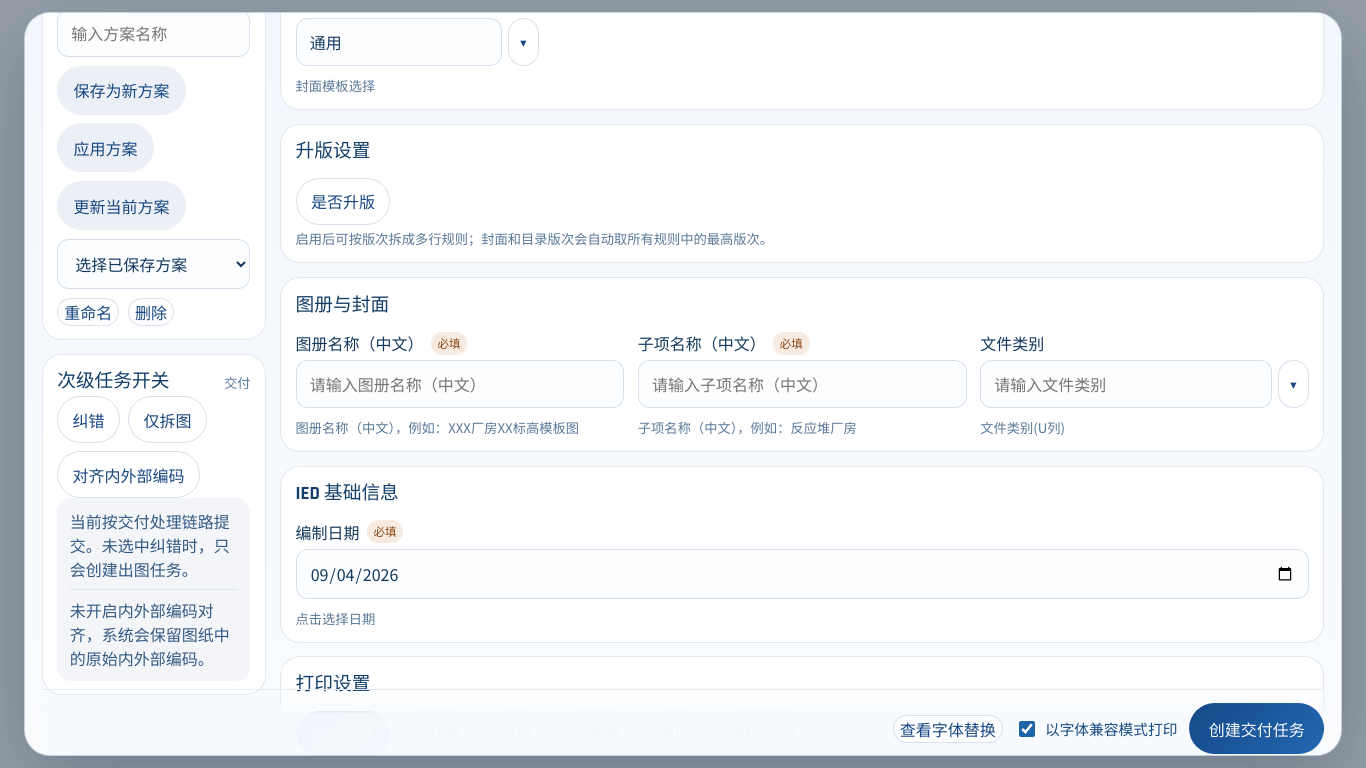
Test: DeliverableWorkspace › shows all file category candidates inside a scrollable dropdown menu
This screenshot has width=1366, height=768.
(page scrolled)
Click the dropdown labelled "文件类别": (1126, 384) [980, 360, 1272, 408]
(page scrolled)
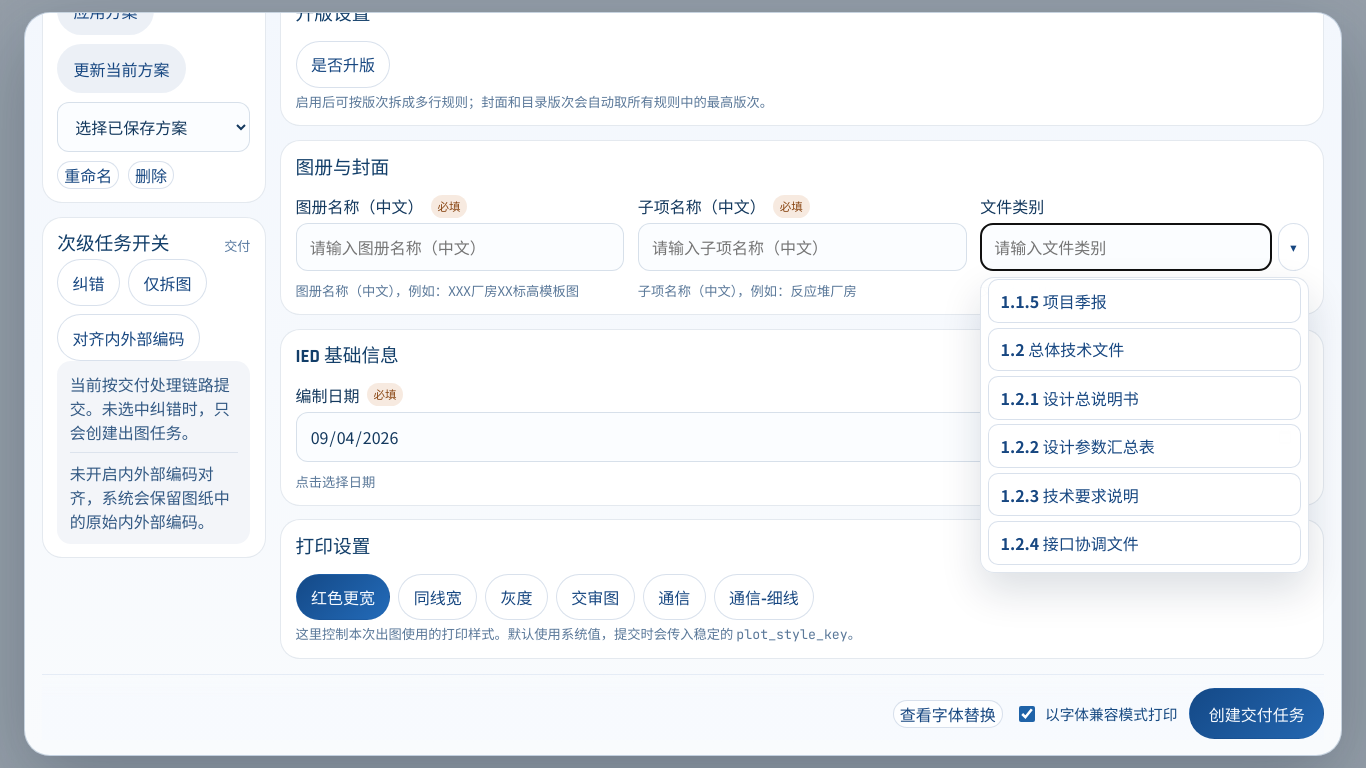
Check: the option "1.2.4 接口协调文件" is shown, box [988, 521, 1301, 565]
